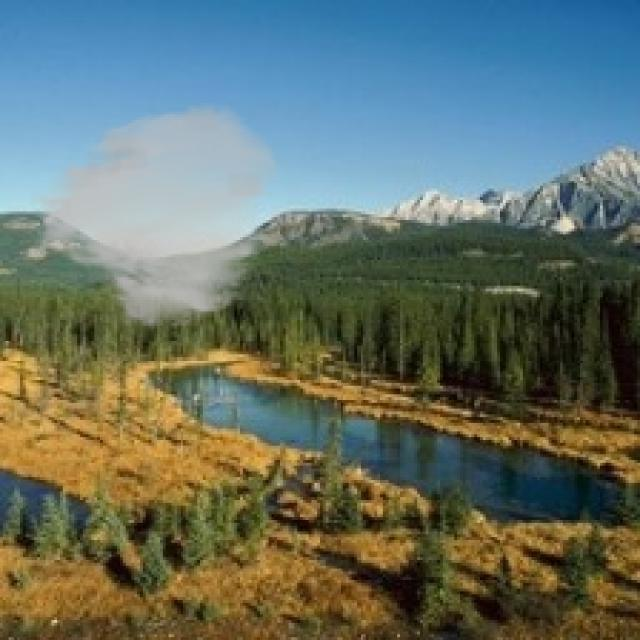Smoke: (23, 102, 283, 332)
